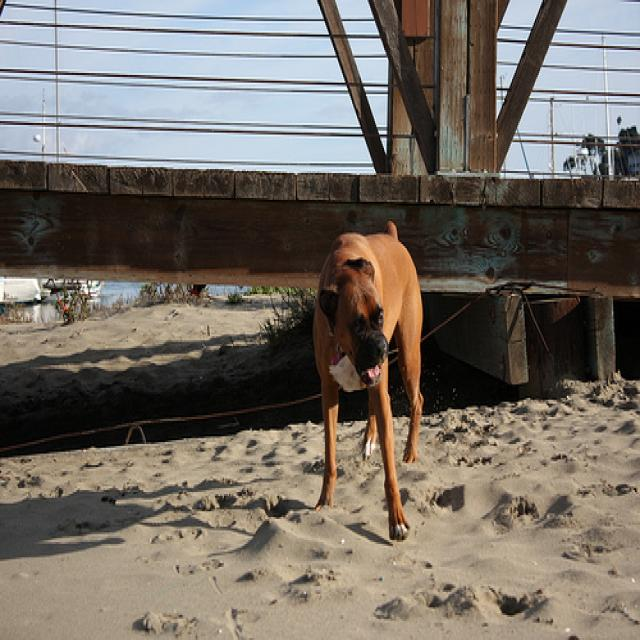dog-boxer: (311, 215, 430, 550)
